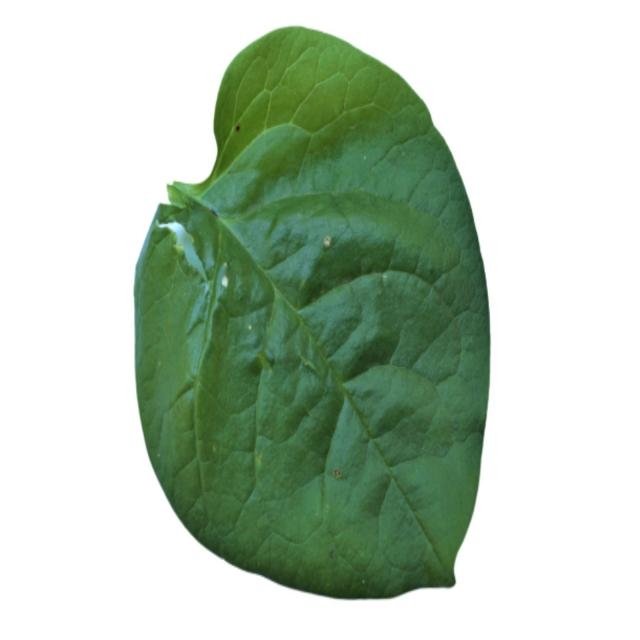Medicinal-Basale: (132, 26, 491, 600)
